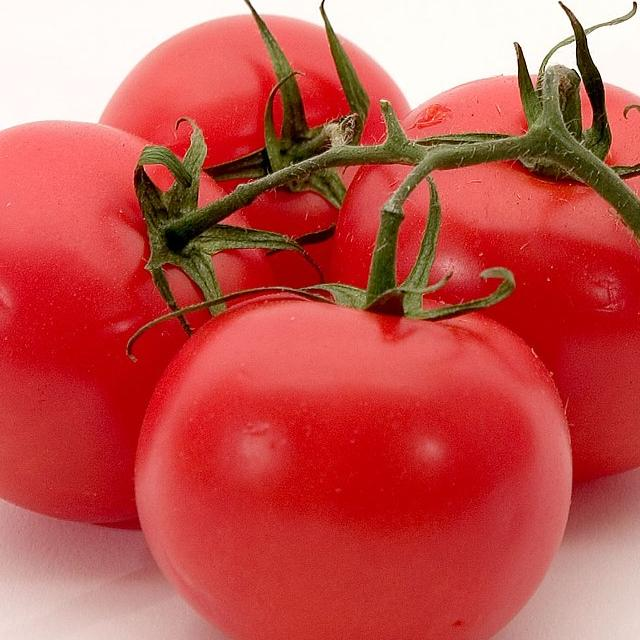tomato: (136, 301, 570, 640), (0, 122, 212, 528), (431, 161, 640, 484), (99, 6, 281, 204), (223, 187, 341, 279), (317, 166, 408, 284), (263, 15, 349, 126), (399, 75, 525, 136), (339, 36, 409, 137), (221, 251, 315, 283), (213, 250, 270, 290), (198, 163, 244, 206), (165, 265, 202, 305), (146, 164, 172, 190), (341, 169, 356, 188)
